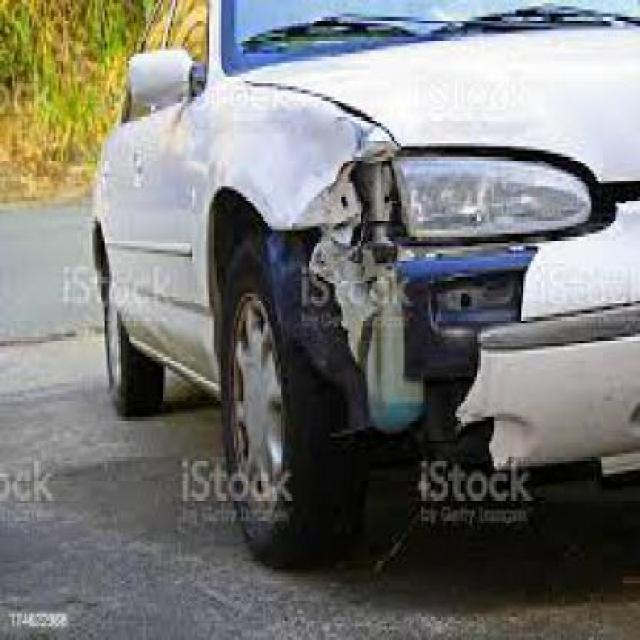damaged-front-bumper: (287, 233, 638, 510)
